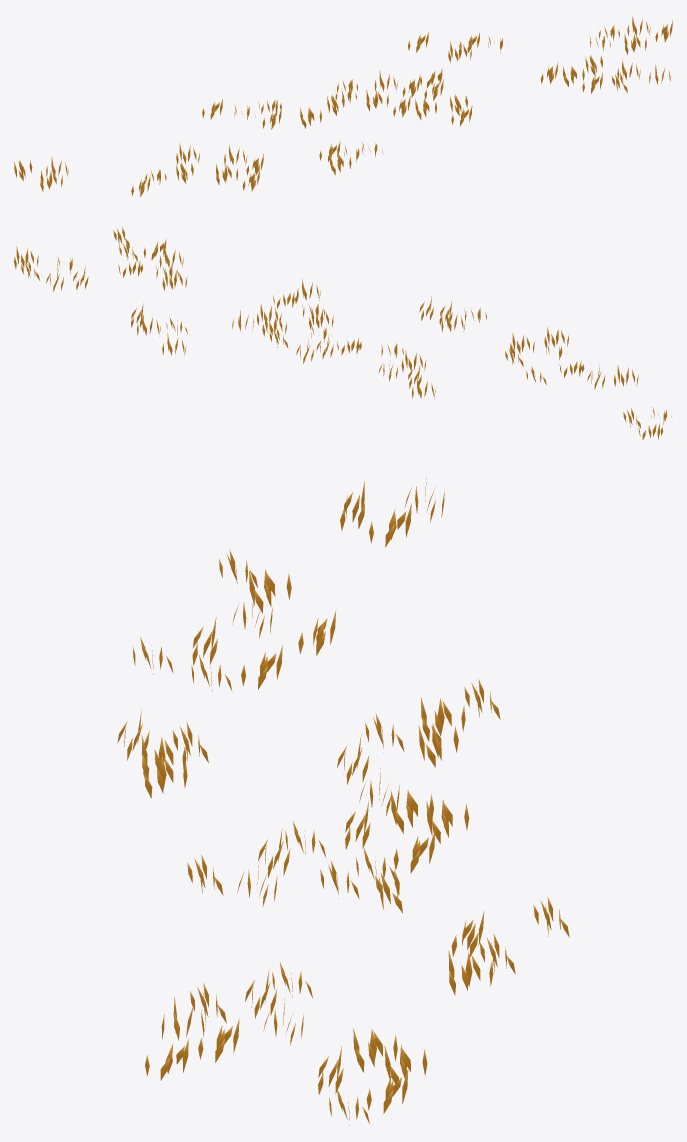
File: plants_un_main_grass_set81_03.gltf
The picture shows the model from 3 angles, top to bottom: view 1: azimuth 30°, elevation 25°; view 2: azimuth 150°, elevation 25°; view 3: azimuth 270°, elevation 25°; orthographic projection. The views are drawn at different scales.
Parts seen in each view (by area): view 1: plants_un_main_grass_set81_03_mesh_shape:plants_un_main_gras; view 2: plants_un_main_grass_set81_03_mesh_shape:plants_un_main_gras; view 3: plants_un_main_grass_set81_03_mesh_shape:plants_un_main_gras.
Part boxes in pixels (bbox=[...]): plants_un_main_grass_set81_03_mesh_shape:plants_un_main_gras: bbox=[14, 16, 672, 196]; plants_un_main_grass_set81_03_mesh_shape:plants_un_main_gras: bbox=[14, 226, 671, 440]; plants_un_main_grass_set81_03_mesh_shape:plants_un_main_gras: bbox=[117, 473, 569, 1125].
Size of what is drawn, in the model's own units: 14.84 by 0.4188 by 4.55.
1 material, 1 textured.
